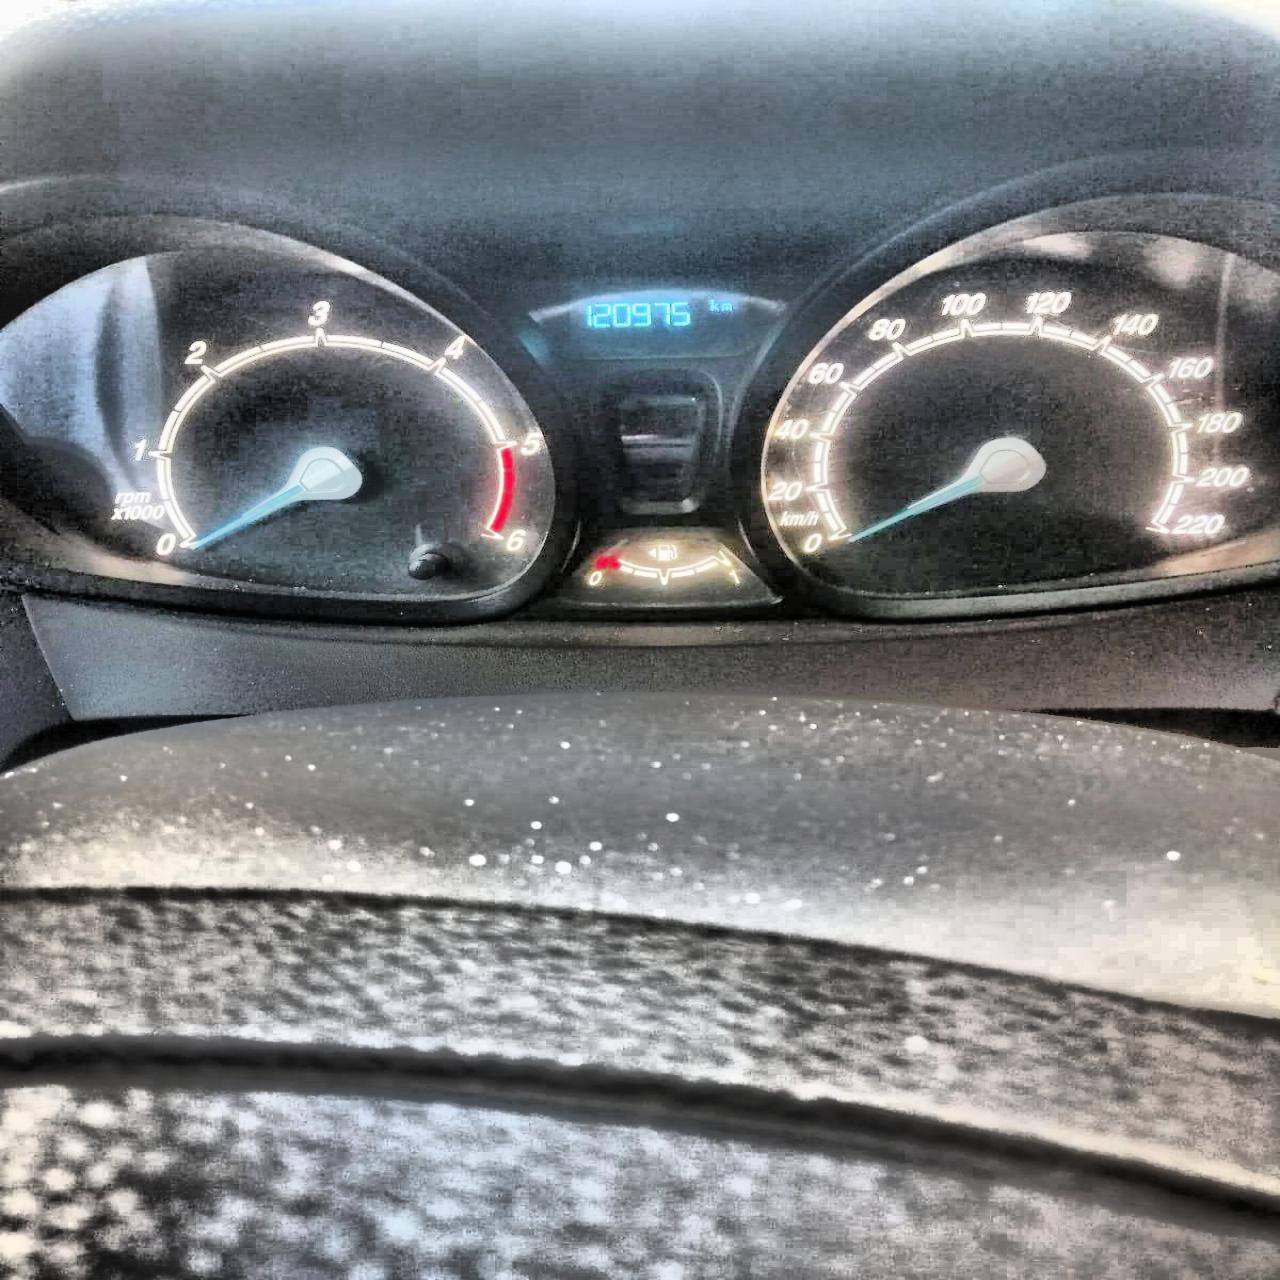0: (612, 301, 631, 326)
1: (584, 302, 593, 327)
2: (594, 302, 610, 327)
5: (669, 300, 692, 326)
7: (652, 301, 670, 324)
9: (632, 300, 651, 326)
X: (709, 299, 719, 311), (720, 301, 731, 311)
odometer: (570, 287, 751, 347)
